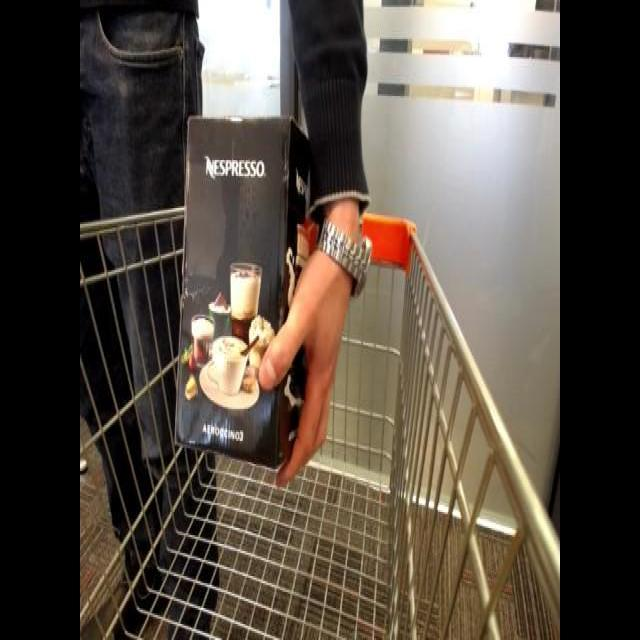Nespresso: (167, 100, 337, 481)
